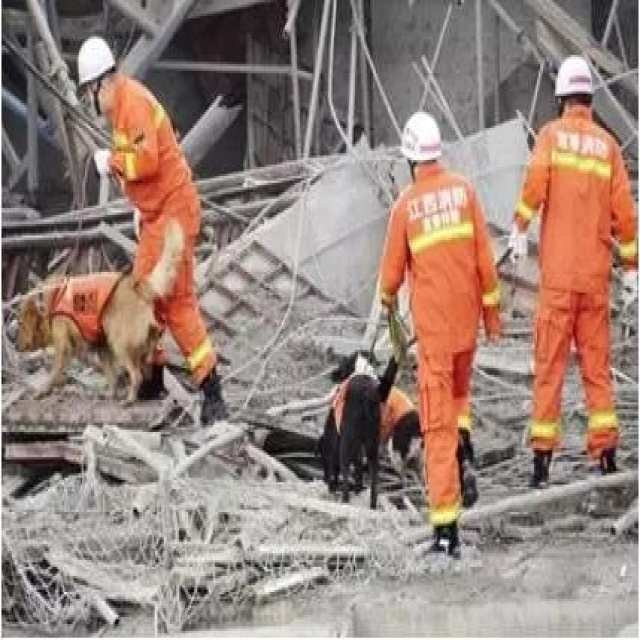Helmet: (58, 19, 142, 132), (538, 26, 610, 141), (386, 94, 465, 197)
Reflective vest: (386, 170, 490, 358), (534, 118, 621, 307), (112, 77, 203, 237)
